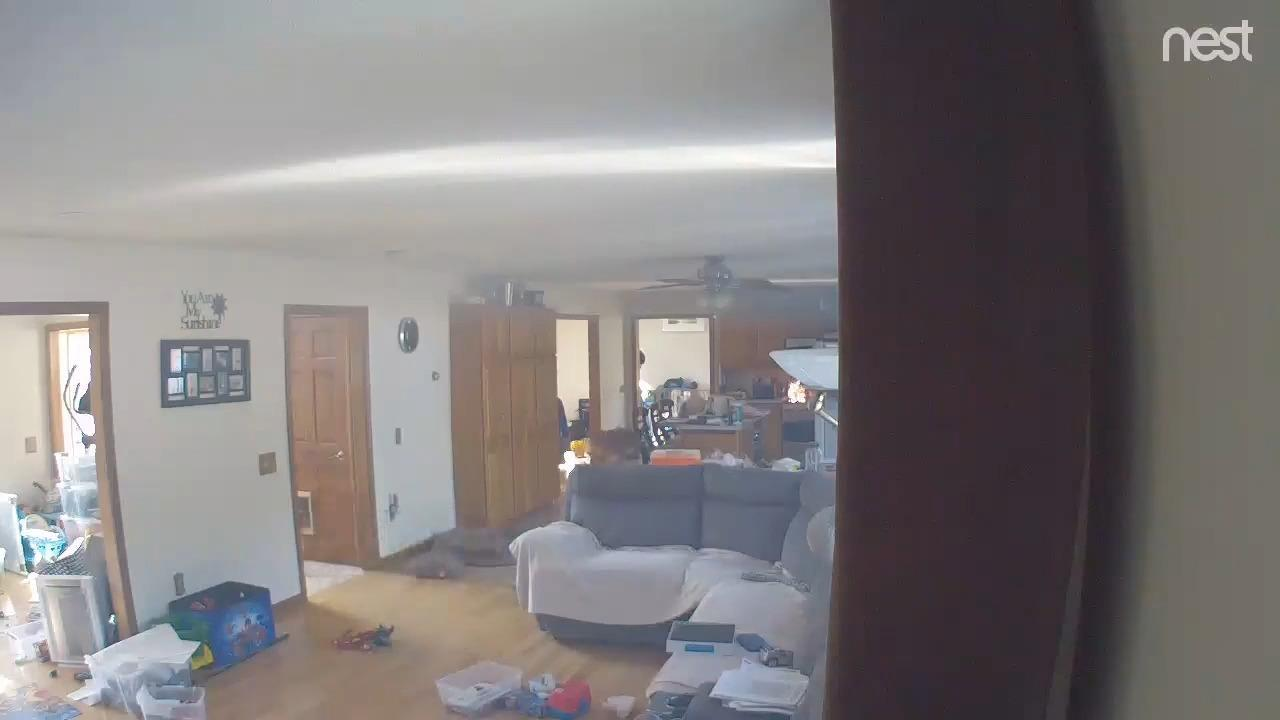fire: (788, 379, 806, 403)
